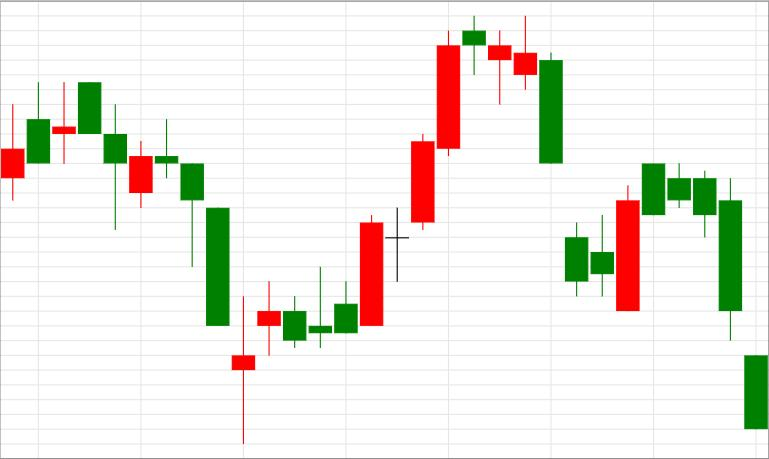bullish_engulfing_rise: (462, 16, 640, 311)
hammer_rise: (53, 81, 204, 267)
